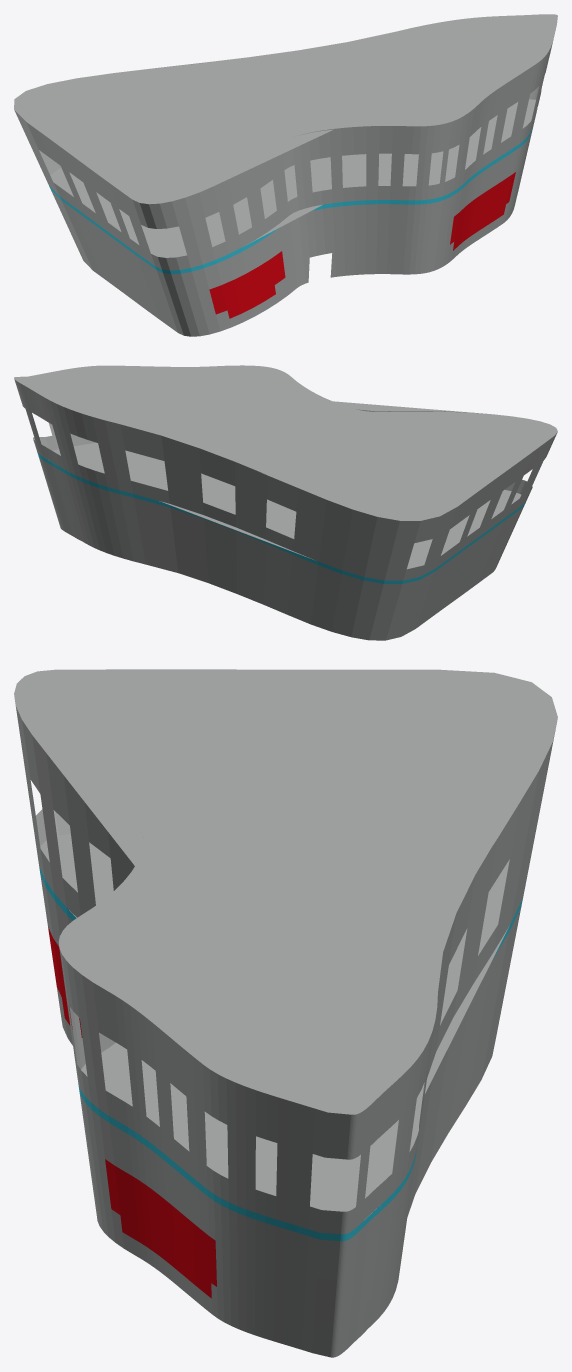
File: pared (1).fbx
3 views of the same model, one above another, from view 1: azimuth 30°, elevation 25°; view 2: azimuth 150°, elevation 25°; view 3: azimuth 270°, elevation 25° (orthographic). The views are drawn at different scales.
Visible parts, largest first — view 1: casa; view 2: casa; view 3: casa.
Boxes of the visible parts, x1,y1,x2,y2 form: casa: (14,14,557,336); casa: (14,365,557,640); casa: (14,669,557,1357).
Bounding box in the file's own units: 24834 × 7362 × 12819.
